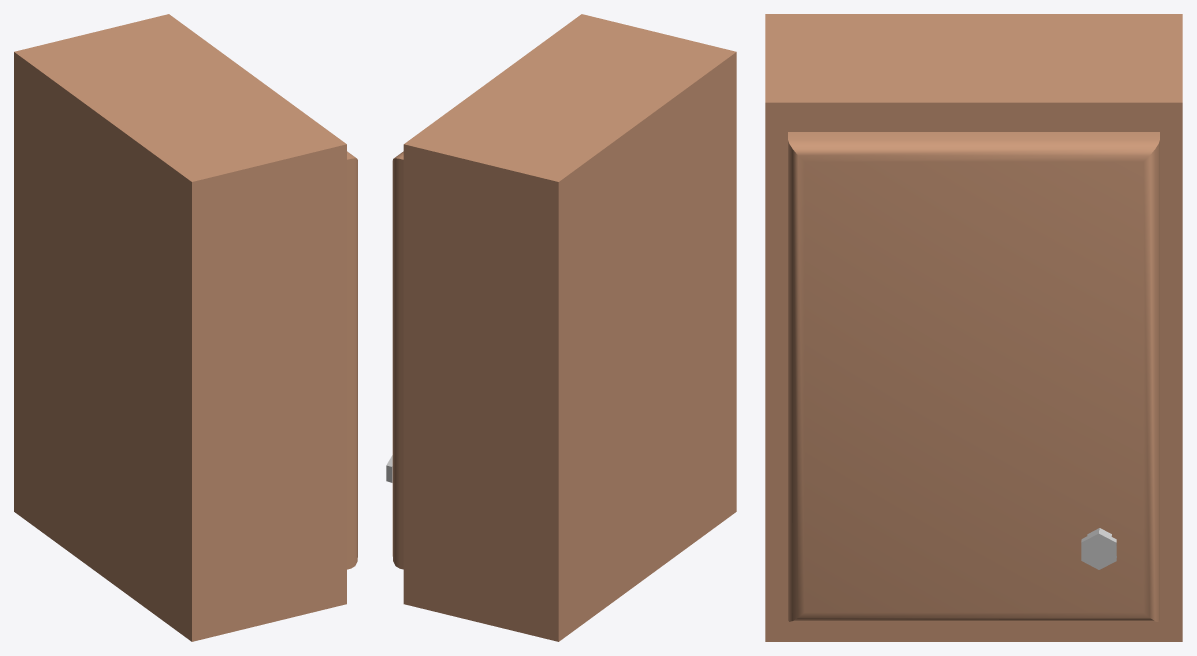
File: SoloCupboard_v1.fbx
3 renders of one model, left to right at view 1: azimuth 30°, elevation 25°; view 2: azimuth 150°, elevation 25°; view 3: azimuth 270°, elevation 25°, orthographic. The views are drawn at different scales.
Parts seen in each view (by area): view 1: Single Cupboard; view 2: Single Cupboard; view 3: Single Cupboard.
Part boxes in pixels (x1,y1,x2,y2): Single Cupboard: (14, 14, 357, 641); Single Cupboard: (386, 14, 736, 641); Single Cupboard: (765, 14, 1182, 641).
Size of the model in its own units: 41.25 by 90.33 by 63.35.
